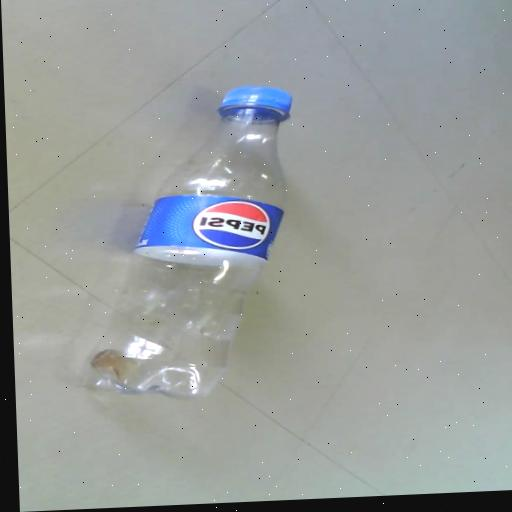bottle: (56, 67, 327, 436)
